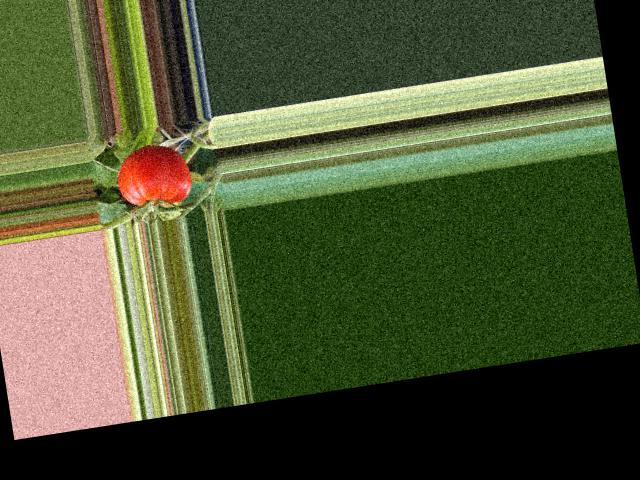tomato: (113, 139, 195, 210)
